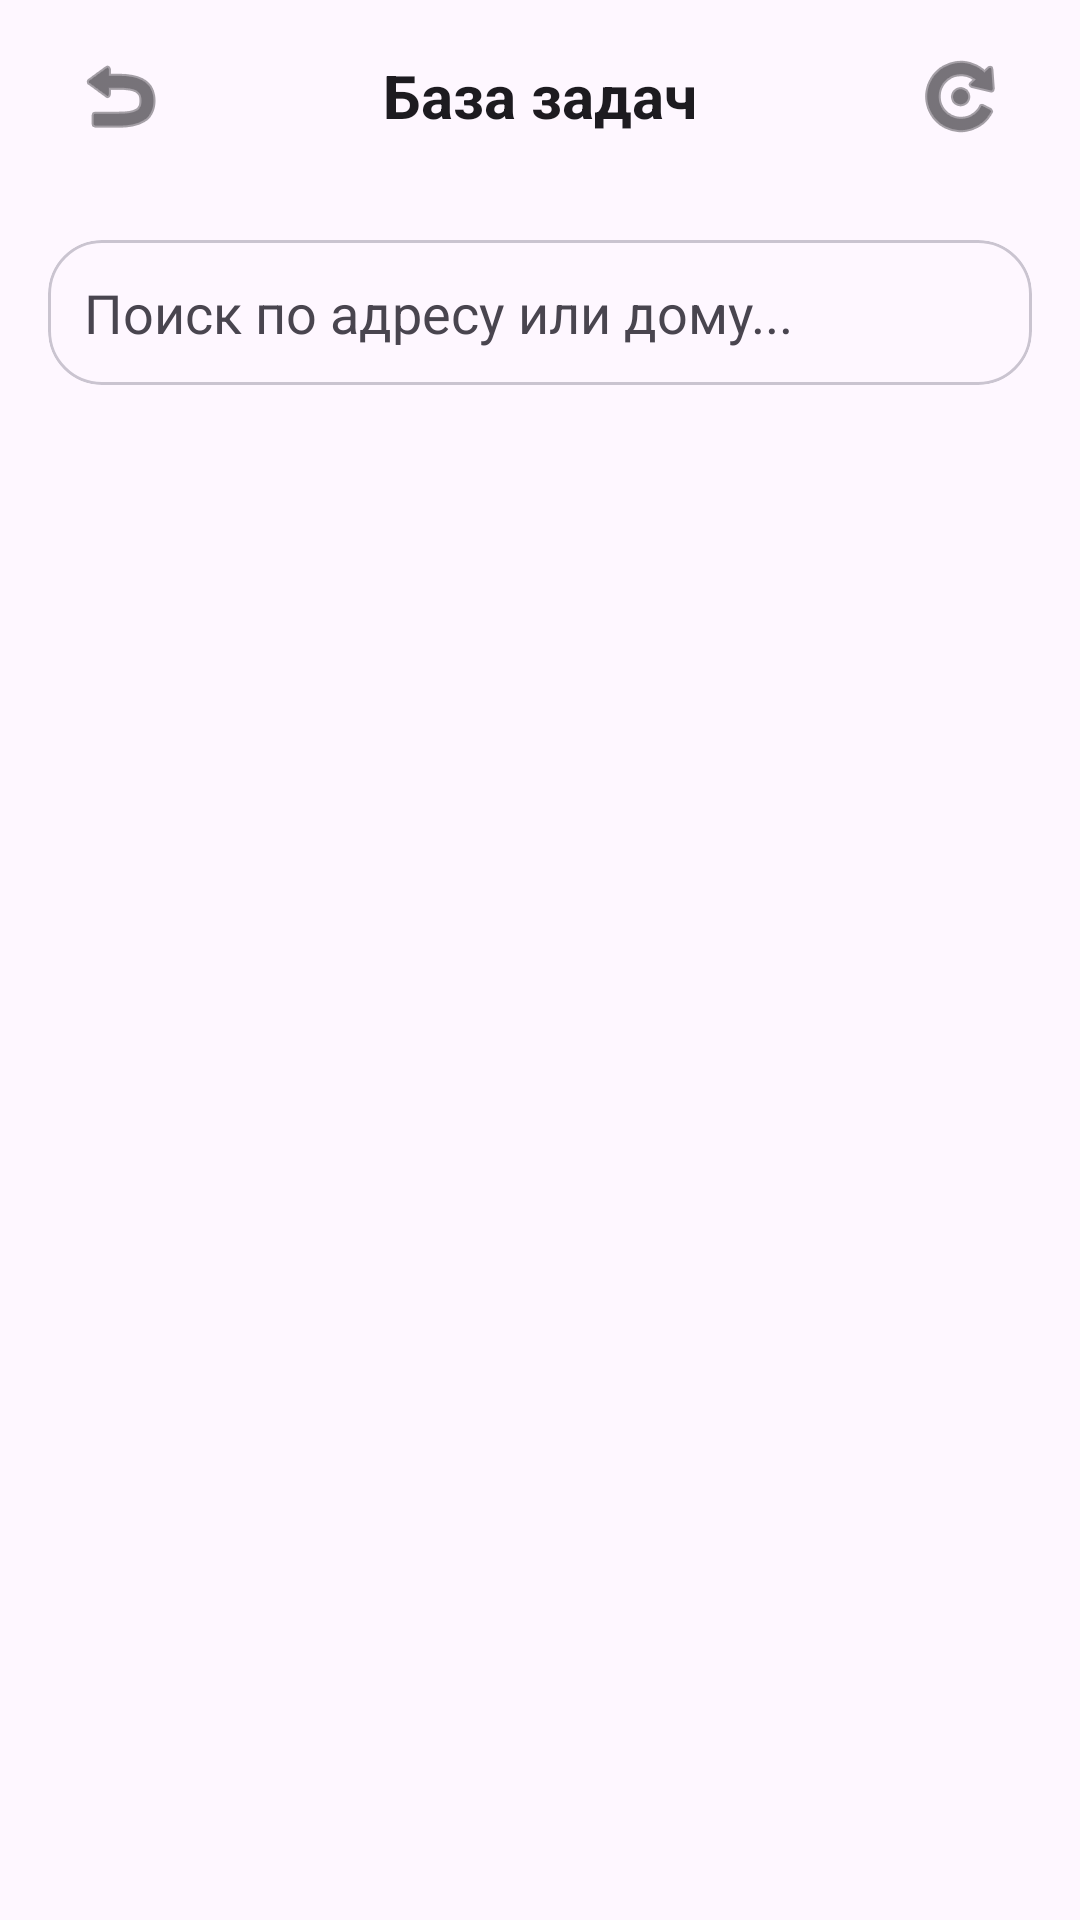

Icons on this 1080px x 1920px Android screen, each with its box as (x1, y1, x2, y2):
revert: (87, 65, 156, 128)
rotate: (925, 61, 995, 132)
